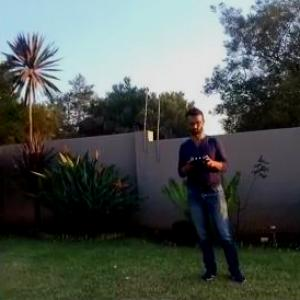follow: (175, 102, 252, 284)
